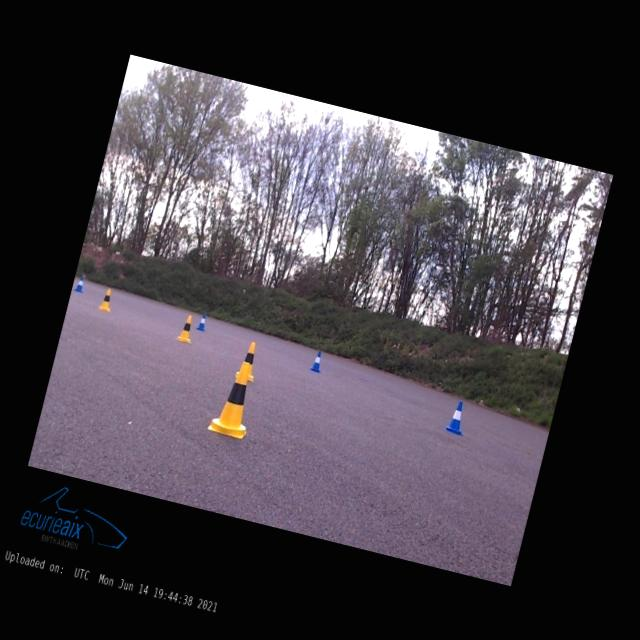blue_cone: (444, 399, 470, 436), (309, 350, 324, 372), (74, 274, 86, 292), (196, 313, 208, 331)
yellow_cone: (206, 356, 262, 439), (234, 339, 262, 382), (176, 312, 197, 343), (98, 286, 115, 311)
